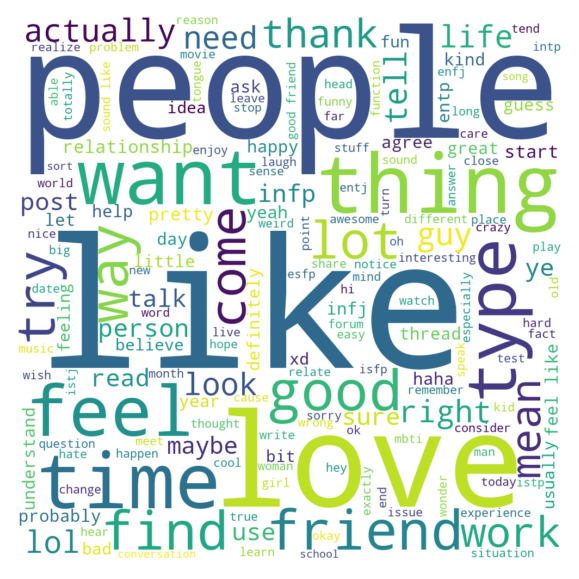

The page's visual inventory and layout, read from the dashboard file:
{"tool":"tableau","page":{"name":"Dashboard 1","canvas":[1000,800],"ordinal":0},"visuals":[{"type":"worksheet","title":"Topics","mark":"Automatic","box":[74,14,886,777]},{"type":"worksheet","title":"Topics","mark":"Automatic","param":"[federated.0f70d2m07pqro519ml5wd1i6v16a].[none:type:nk]","box":[10,18,72,40]}]}

Visuals, with their boxes on the page's 1000x800 design canvas (x1, y1, x2, y2). These are canvas units, not pixel positions in the 579x579 screenshot, which may show the page scaled, cropped or inside an application window:
"Topics" worksheet: box(74, 14, 960, 791)
"Topics" worksheet: box(10, 18, 82, 58)
